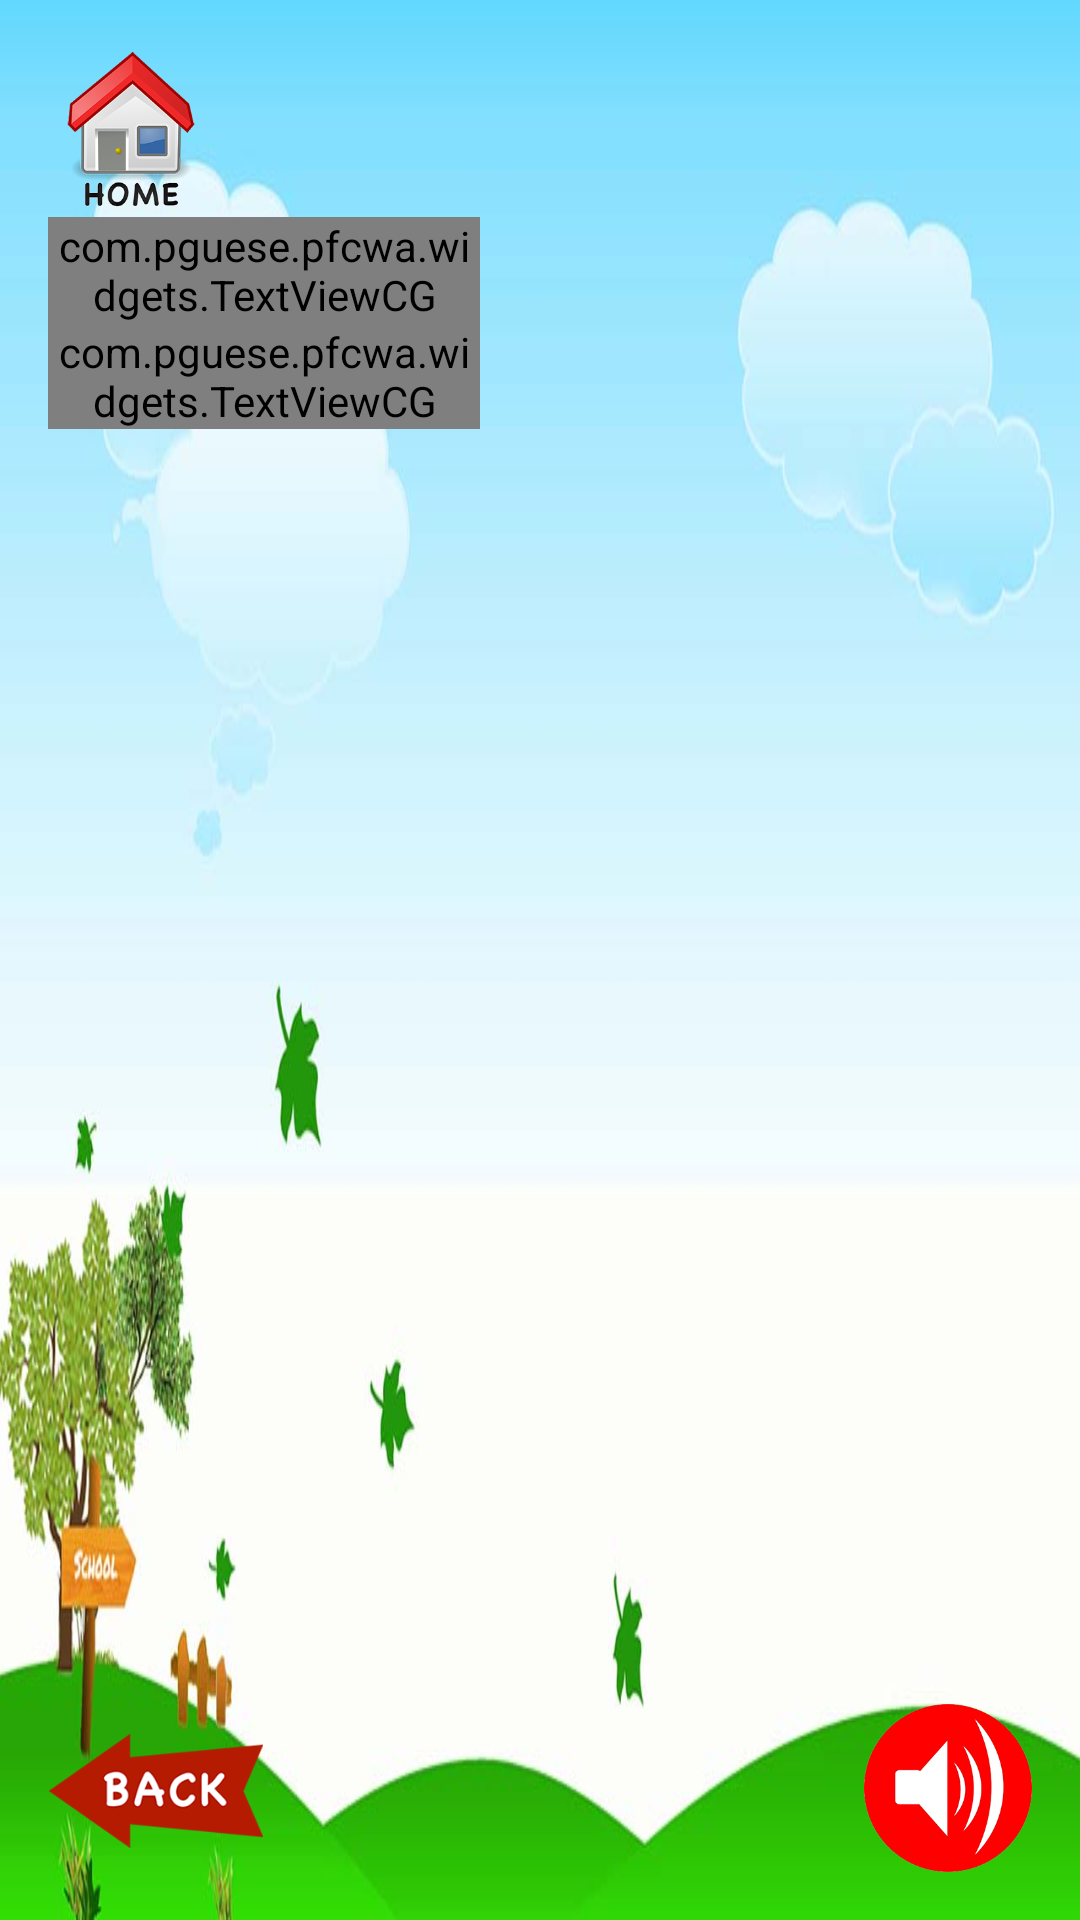

Icon click points for this 1080 × 1920 phone screenshot, format (x,y):
speak: (924,1764)
